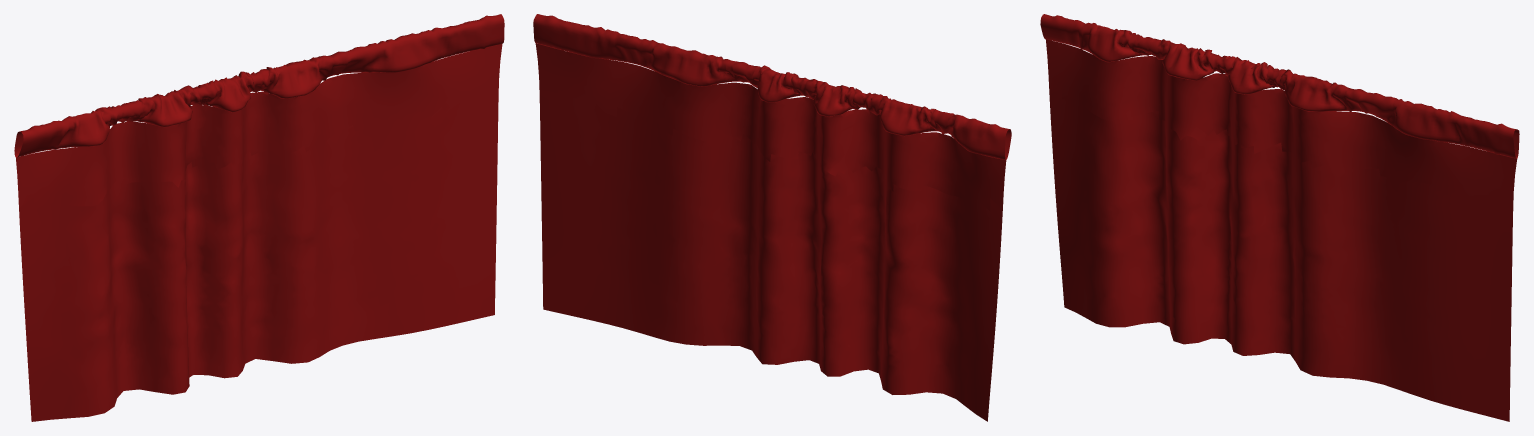
The model's file is TuleOnly.FBX.
The picture shows the model from 3 angles, left to right: view 1: azimuth 30°, elevation 25°; view 2: azimuth 150°, elevation 25°; view 3: azimuth 330°, elevation 25°; orthographic projection.
Parts seen in each view (by area): view 1: TuleCloth, TuleHead; view 2: TuleCloth, TuleHead; view 3: TuleCloth, TuleHead.
Part boxes in pixels (x1,y1,x2,y2): TuleCloth: (19, 91, 498, 421); TuleHead: (14, 14, 504, 210); TuleCloth: (539, 90, 1002, 421); TuleHead: (533, 14, 1011, 210); TuleCloth: (1049, 86, 1513, 421); TuleHead: (1040, 14, 1519, 209).
Bounding box in the file's own units: 145 × 87.35 × 11.25.
